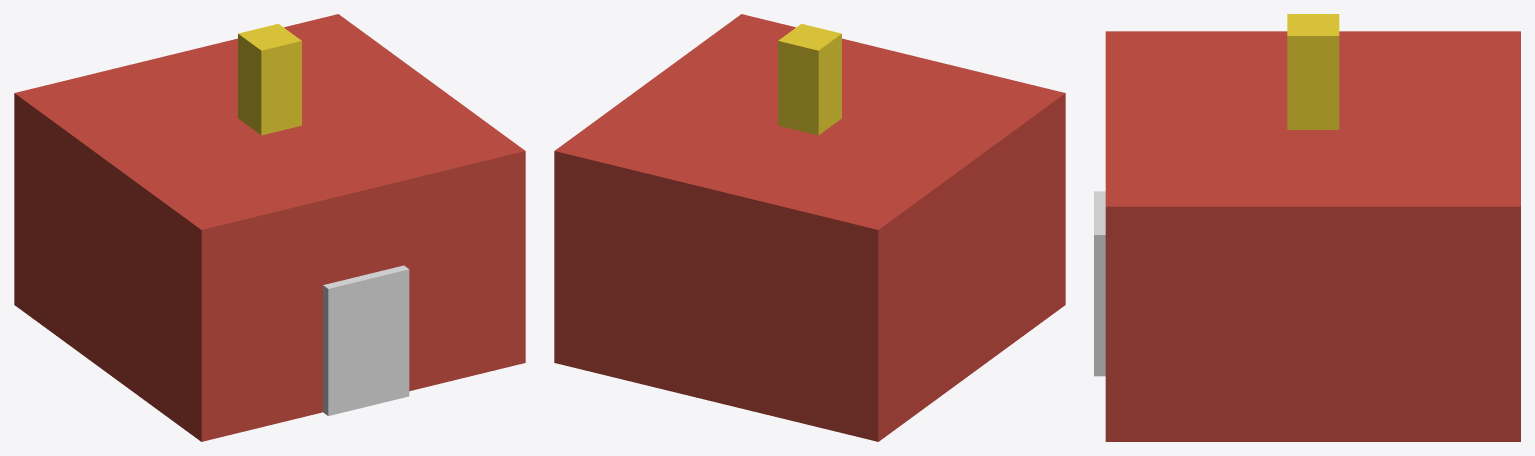
Rendered from asset_fixture.glb.
The picture shows the model from 3 angles, left to right: view 1: azimuth 30°, elevation 25°; view 2: azimuth 150°, elevation 25°; view 3: azimuth 270°, elevation 25°; orthographic projection. The views are drawn at different scales.
Parts seen in each view (by area): view 1: body, door, flag; view 2: body, flag; view 3: body, flag, door.
Part boxes in pixels (left/top/right/bottom): body: left=14, top=14, right=525, bottom=441; door: left=323, top=265, right=409, bottom=415; flag: left=238, top=23, right=301, bottom=135; body: left=554, top=14, right=1065, bottom=441; flag: left=778, top=23, right=841, bottom=135; body: left=1105, top=31, right=1520, bottom=441; flag: left=1287, top=14, right=1339, bottom=129; door: left=1094, top=191, right=1105, bottom=376.
Bounding box in the file's own units: 1.6 × 1.4 × 1.65.
